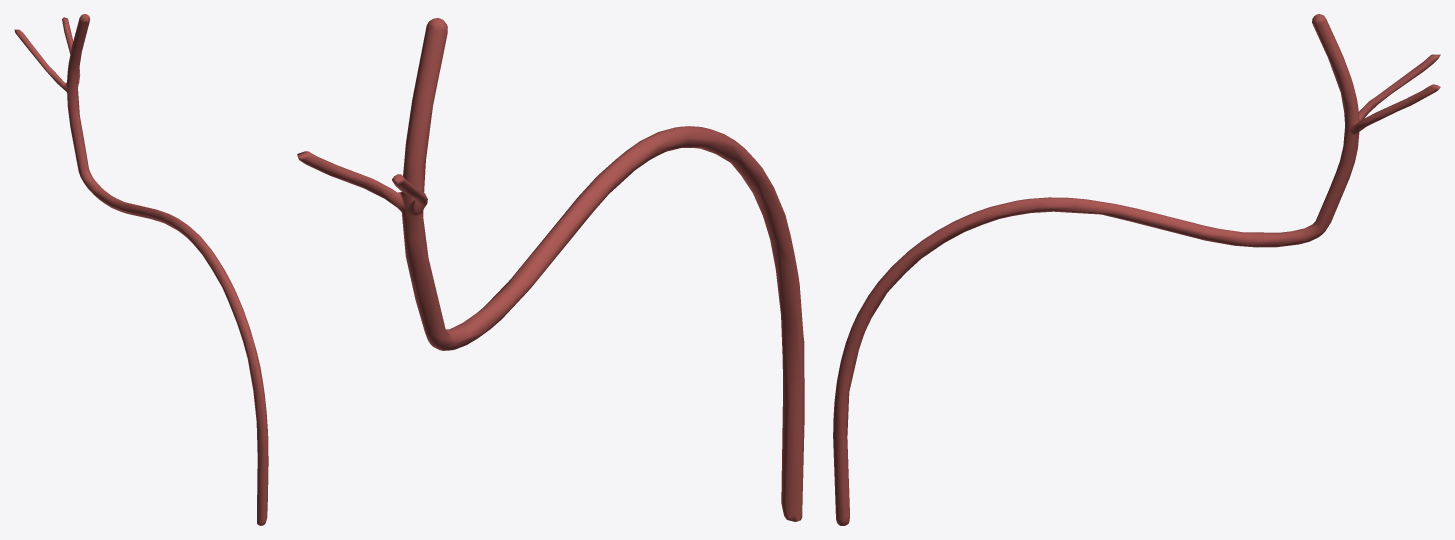
The model's file is FMA19667.glb.
3 views of the same model, side by side, from view 1: azimuth 30°, elevation 25°; view 2: azimuth 150°, elevation 25°; view 3: azimuth 270°, elevation 25° (orthographic). The views are drawn at different scales.
Visible parts, largest first — view 1: FMA19667; view 2: FMA19667; view 3: FMA19667.
Part boxes in pixels (x1,y1,x2,y2): FMA19667: (14, 14, 268, 525); FMA19667: (297, 18, 804, 521); FMA19667: (833, 14, 1440, 525).
Size of the model in its own units: 0.0165 by 0.1136 by 0.1224.
